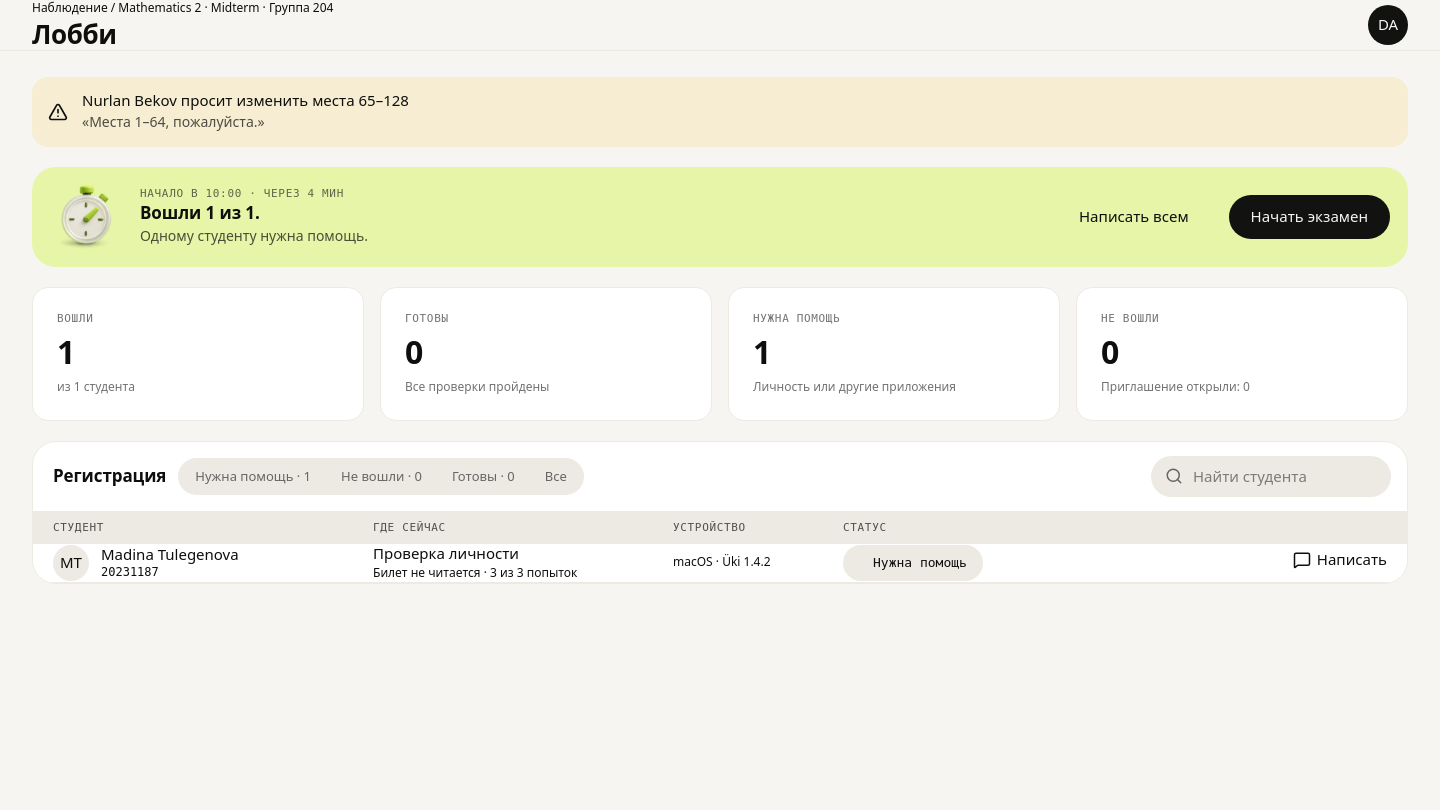
Scenario: 1.5a and 1.5b in Russian › renders the lobby row, the student card on hover, Identity help and the change request
Expected: the text "Билет не читается · 3 из 3 попыток" is shown, [373, 565, 577, 582]
Expected: the text "Nurlan Bekov просит изменить места 65–128" is shown, [82, 90, 409, 110]
Hover over the row that starts with "Madina Tulegenova": (720, 563) [33, 544, 1407, 582]
Wait 310 ms
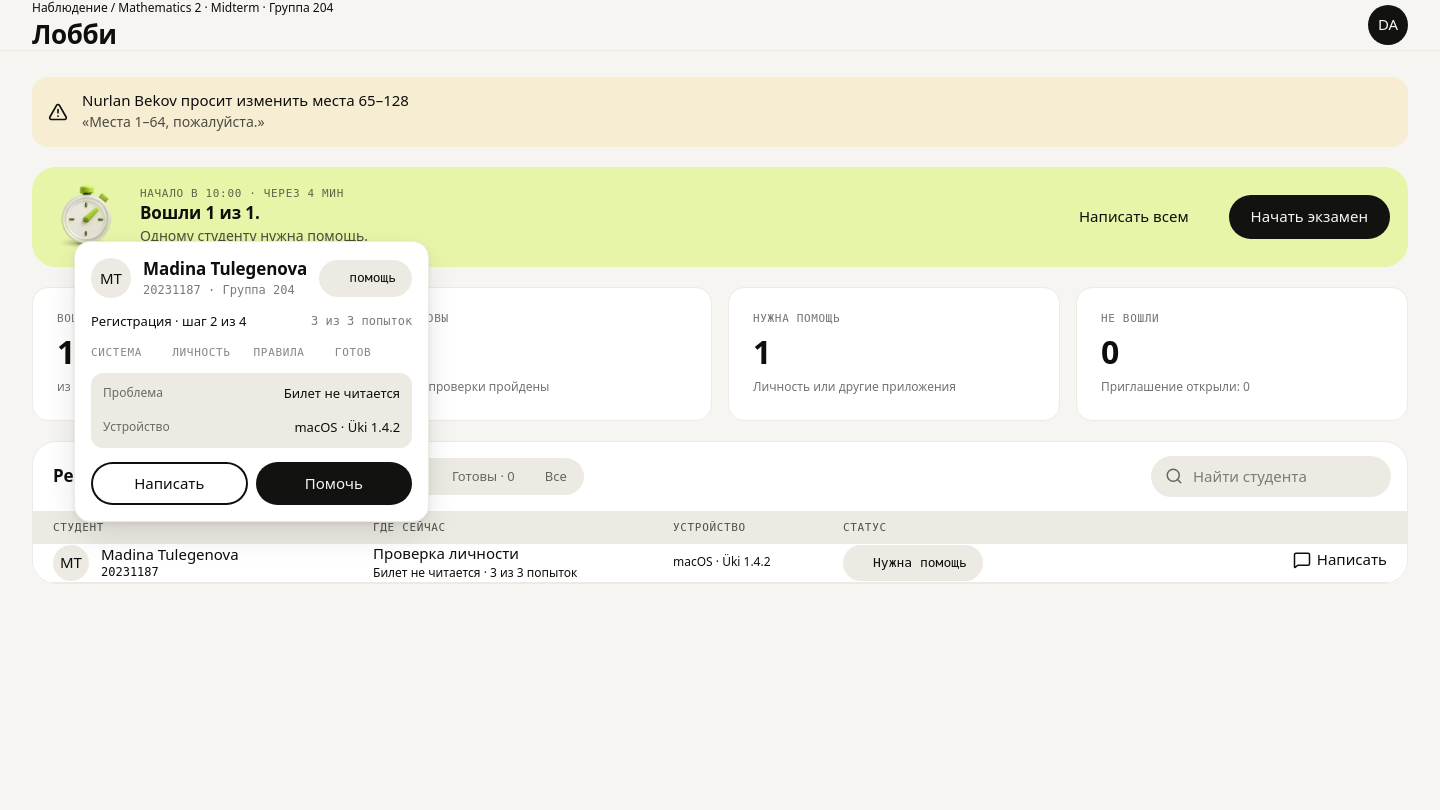
Expected: the text "Регистрация · шаг 2 из 4" is shown, [91, 312, 246, 330]
Expected: the text "3 из 3 попыток" is shown, [311, 313, 412, 330]
Expected: the text "20231187 · Группа 204" is shown, [143, 282, 295, 299]
Click the button "Помочь": (334, 484) [256, 462, 412, 505]
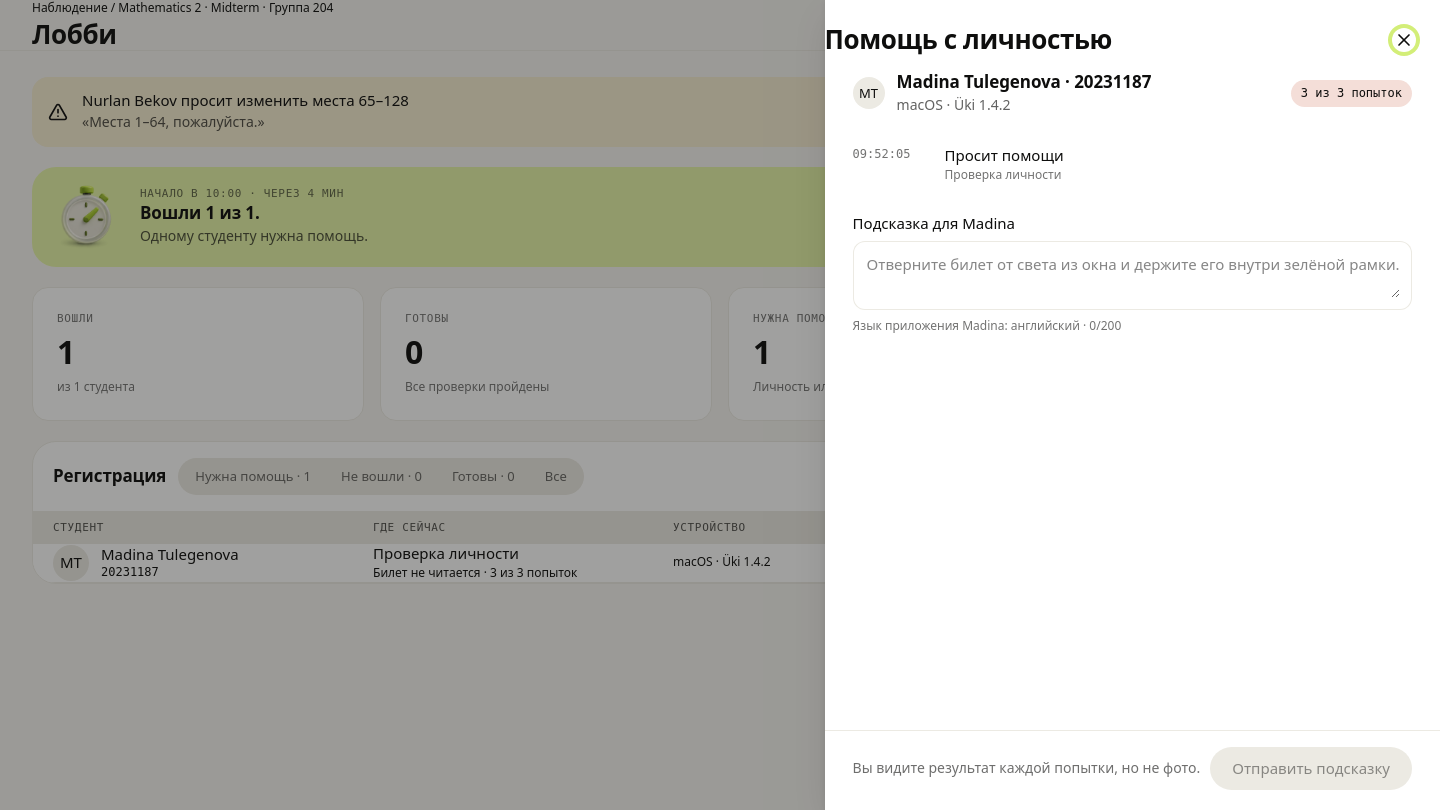
Expected: the text "Просит помощи" is shown, [945, 146, 1064, 165]
Expected: the text box labelled "Подсказка для Madina" is shown, [867, 253, 1400, 298]
Expected: the text "Язык приложения Madina: английский · 0/200" is shown, [853, 318, 1121, 335]
